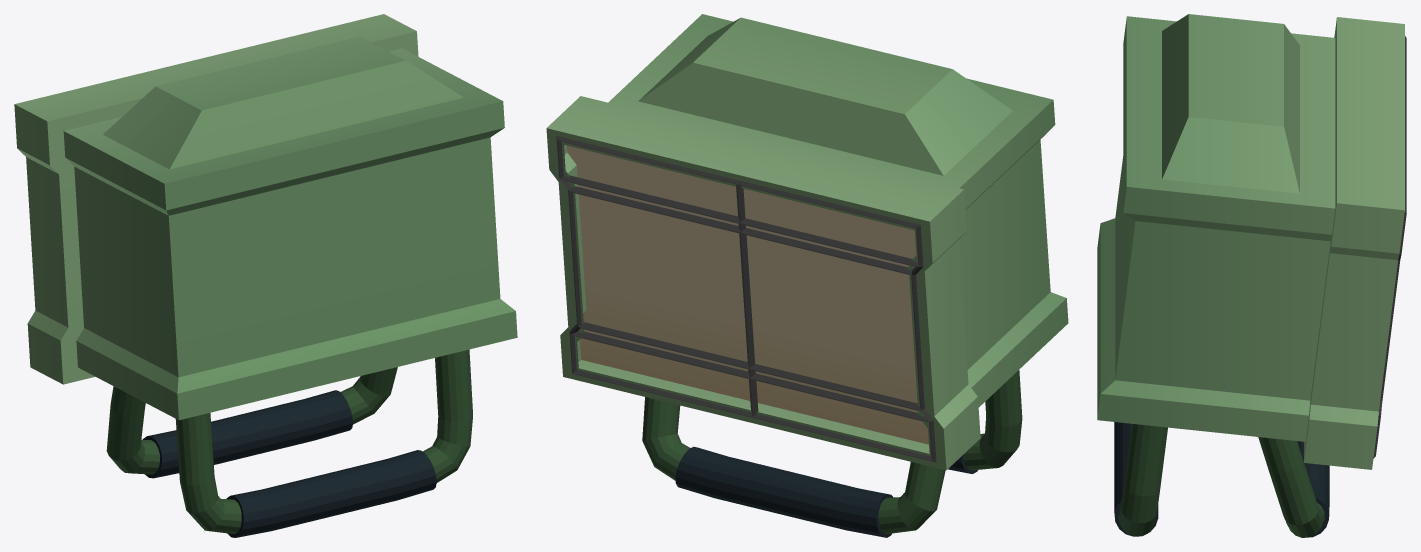
File: lampu.fbx
3 renders of one model, left to right at view 1: azimuth 30°, elevation 25°; view 2: azimuth 150°, elevation 25°; view 3: azimuth 270°, elevation 25°, orthographic. The views are drawn at different scales.
Visible parts, largest first — view 1: lamp; view 2: lamp; view 3: lamp.
Part boxes in pixels (bbox=[...]): lamp: bbox=[14, 14, 517, 537]; lamp: bbox=[546, 14, 1068, 537]; lamp: bbox=[1097, 14, 1406, 537].
Size of the model in its own units: 57.08 by 60.64 by 40.11.
